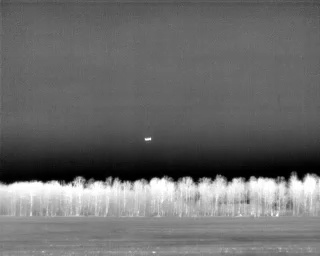DRONE: (141, 132, 155, 145)
